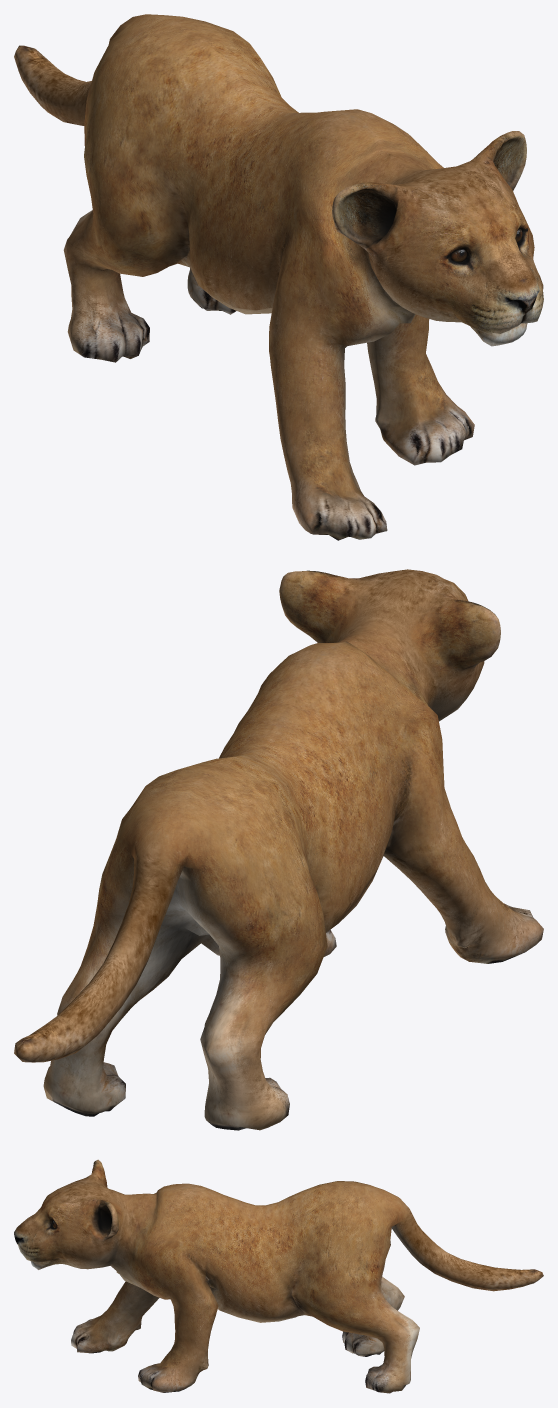
The picture shows the model from 3 angles, top to bottom: view 1: azimuth 30°, elevation 25°; view 2: azimuth 150°, elevation 25°; view 3: azimuth 270°, elevation 25°; orthographic projection. The views are drawn at different scales.
Parts seen in each view (by area): view 1: BABY_LION_HP_0; view 2: BABY_LION_HP_0; view 3: BABY_LION_HP_0.
Boxes of the visible parts, x1,y1,x2,y2 form: BABY_LION_HP_0: (14, 14, 543, 540); BABY_LION_HP_0: (14, 569, 543, 1130); BABY_LION_HP_0: (14, 1159, 543, 1393).
Bounding box in the file's own units: 0.3339 × 0.4576 × 1.14.
1 material, 1 textured.
